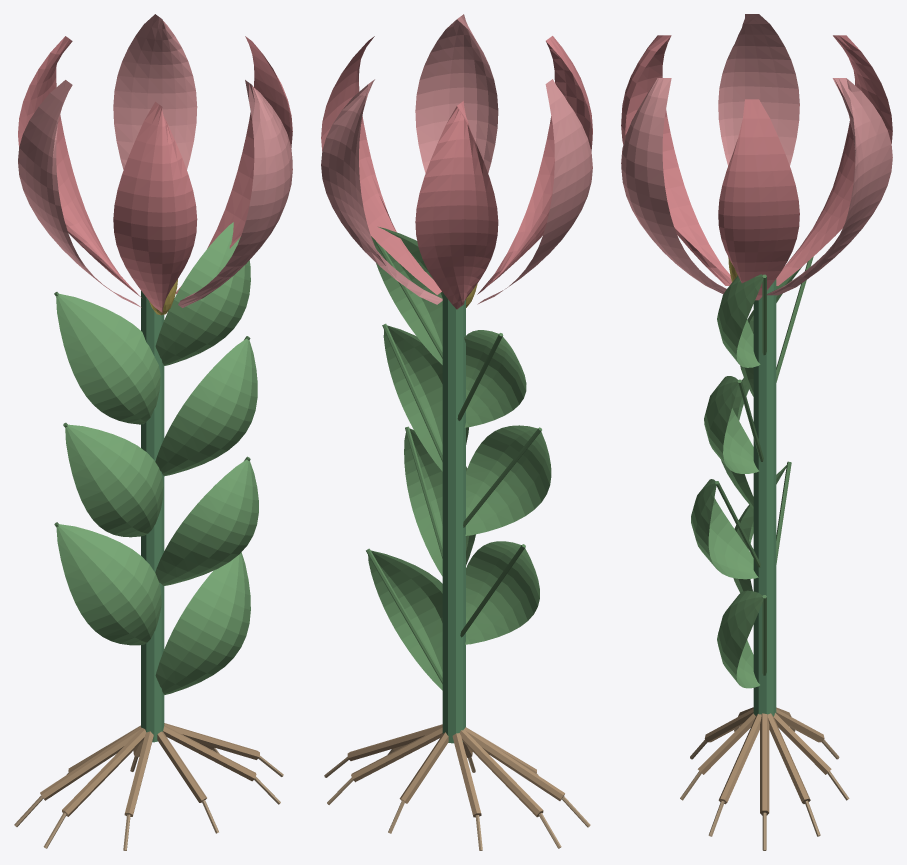
The model's file is 56_Loladoshlar.glb.
3 renders of one model, left to right at view 1: azimuth 30°, elevation 25°; view 2: azimuth 150°, elevation 25°; view 3: azimuth 270°, elevation 25°, orthographic. The views are drawn at different scales.
Parts seen in each view (by area): view 1: leaf, flower, root, stem; view 2: flower, leaf, stem, root; view 3: flower, leaf, stem, root.
Part boxes in pixels (x1,y1,x2,y2): leaf: (56, 222, 258, 694); flower: (18, 14, 292, 315); root: (14, 723, 283, 850); stem: (54, 291, 250, 742); flower: (321, 14, 592, 309); leaf: (368, 227, 551, 690); stem: (366, 238, 541, 743); root: (324, 724, 590, 850); flower: (621, 14, 892, 300); leaf: (691, 266, 802, 688); stem: (715, 257, 813, 716); root: (680, 707, 849, 850).
Bounding box in the file's own units: 1.02 × 2.88 × 0.9682.
